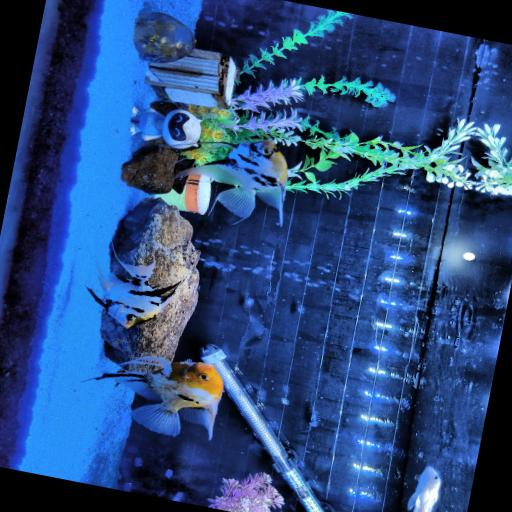Fish: (95, 356, 222, 439), (174, 140, 286, 224), (86, 246, 188, 328), (407, 467, 440, 511)
